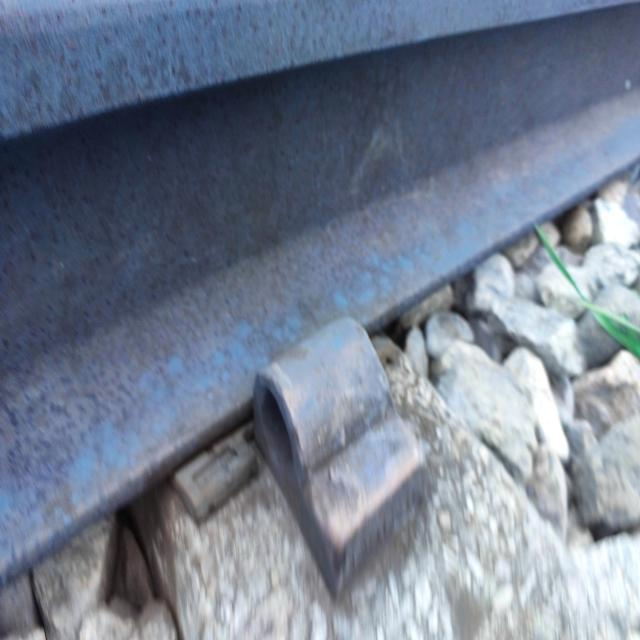Missing Fastener: (229, 296, 437, 599)
